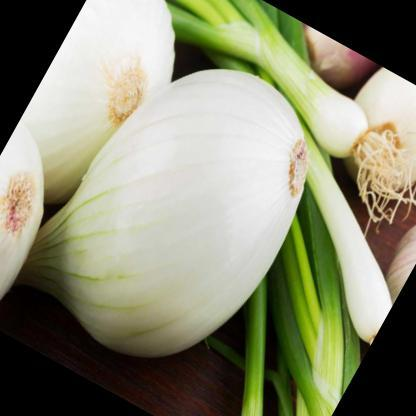onion: (0, 12, 372, 415)
